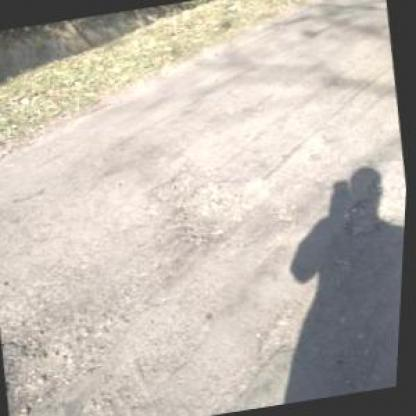pothole: (170, 170, 282, 250), (145, 151, 222, 201)
